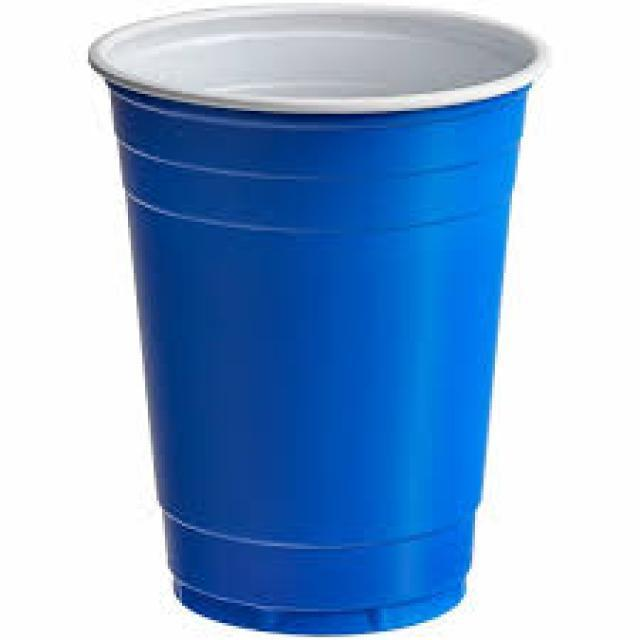cup: (68, 0, 560, 640)
